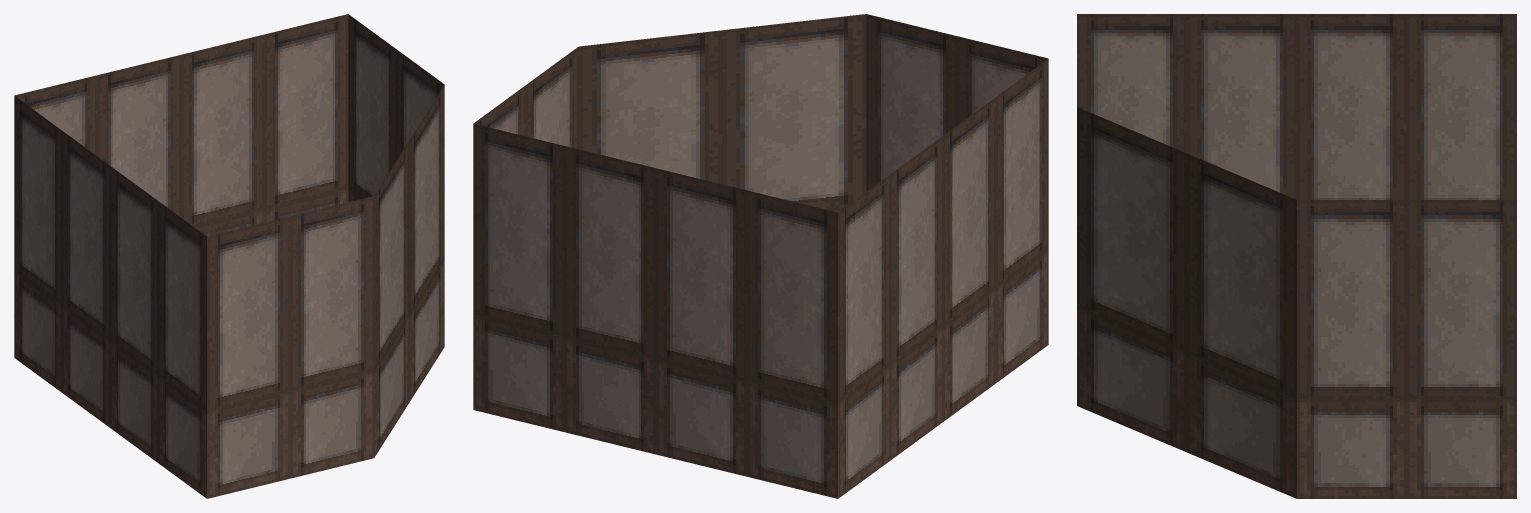
File: plaster_wall_cornered.glb
3 views of the same model, side by side, from view 1: azimuth 30°, elevation 25°; view 2: azimuth 150°, elevation 25°; view 3: azimuth 270°, elevation 25° (orthographic). The views are drawn at different scales.
Visible parts, largest first — view 1: plaster_wall_cornered; view 2: plaster_wall_cornered; view 3: plaster_wall_cornered.
Boxes of the visible parts, x1=… form: plaster_wall_cornered: x1=14, y1=14, x2=444, y2=498; plaster_wall_cornered: x1=473, y1=14, x2=1048, y2=498; plaster_wall_cornered: x1=1077, y1=14, x2=1516, y2=498.
Size of the model in its own units: 5 by 3.75 by 5.
1 material, 1 textured.
